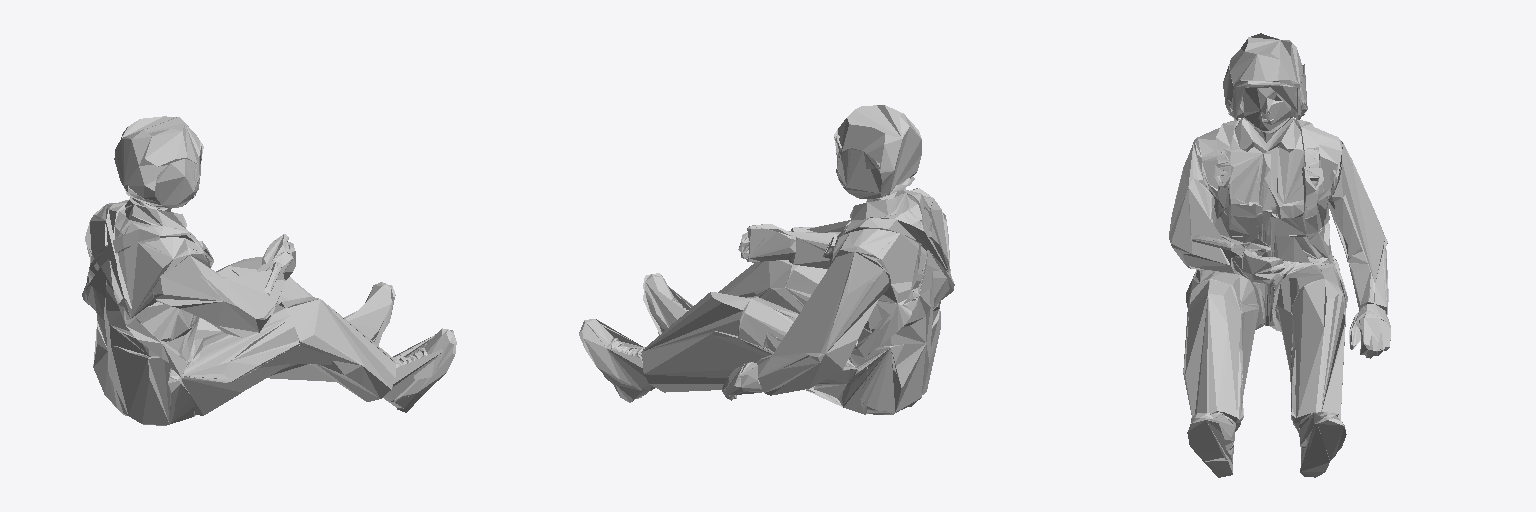
File: pilot.obj
3 renders of one model, left to right at view 1: azimuth 30°, elevation 25°; view 2: azimuth 150°, elevation 25°; view 3: azimuth 270°, elevation 25°, orthographic.
Visible parts, largest first — view 1: PILOT; view 2: PILOT; view 3: PILOT.
Part boxes in pixels (x1,y1,x2,y2): PILOT: (82, 116, 456, 425); PILOT: (579, 105, 954, 414); PILOT: (1169, 33, 1390, 477).
Bounding box in the file's own units: 0.1452 × 0.1419 × 0.0874.